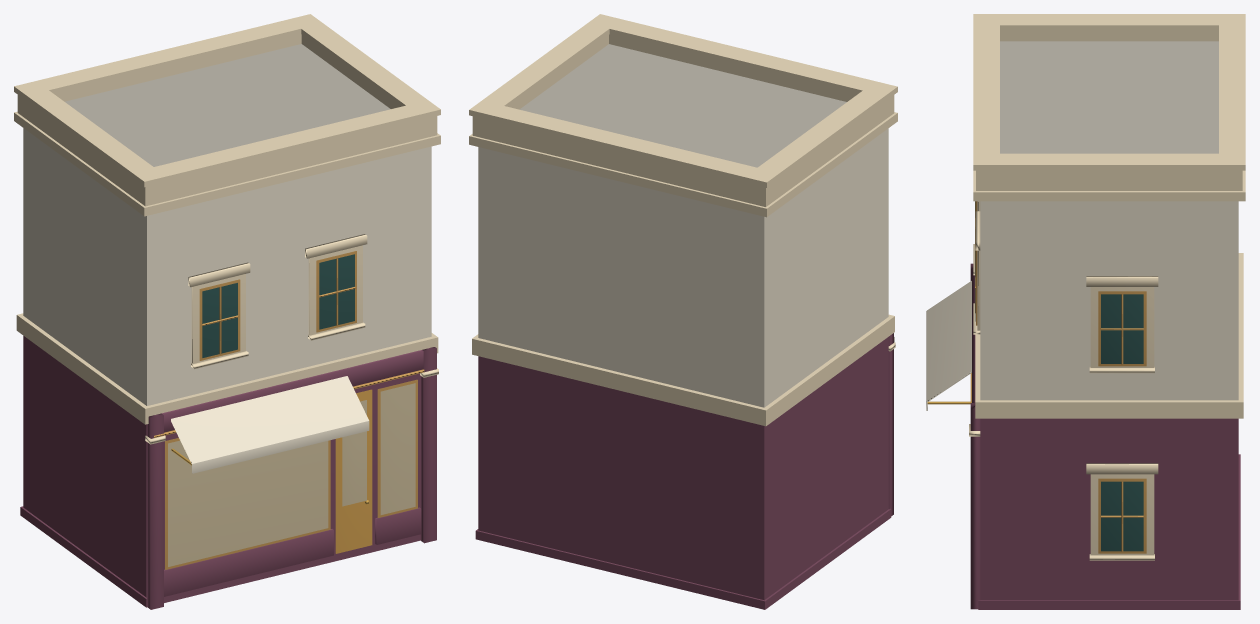
Rendered from building_shop_narrow.glb.
3 renders of one model, left to right at view 1: azimuth 30°, elevation 25°; view 2: azimuth 150°, elevation 25°; view 3: azimuth 270°, elevation 25°, orthographic. The views are drawn at different scales.
Visible parts, largest first — view 1: WallUpper, WallGround, Roof, ParapetCap, ShopWinGlass0, Parapet, Awn, Band0, ShopStall0, Cornice, ShopWinGlass1, ShopPilaster0.10 (+18 smaller); view 2: WallUpper, WallGround, Roof, ParapetCap, Parapet, Band0, Cornice, Plinth, ShopPilaster0.10; view 3: WallUpper, WallGround, Roof, ParapetCap, Parapet, Band0, Awn, Cornice, Plinth, SG0Glass, SW0Glass, ShopPilaster4.80 (+6 smaller).
Part boxes in pixels (x1=…): WallUpper: x1=23, y1=128, x2=431, y2=405; WallGround: x1=23, y1=336, x2=146, y2=596; Roof: x1=65, y1=44, x2=390, y2=166; ParapetCap: x1=14, y1=14, x2=440, y2=187; ShopWinGlass0: x1=168, y1=440, x2=328, y2=566; Parapet: x1=17, y1=34, x2=437, y2=206; Awn: x1=171, y1=376, x2=369, y2=463; Band0: x1=16, y1=313, x2=438, y2=424; ShopStall0: x1=164, y1=529, x2=333, y2=596; Cornice: x1=14, y1=111, x2=440, y2=216; ShopWinGlass1: x1=380, y1=383, x2=415, y2=514; ShopPilaster0.10: x1=146, y1=413, x2=163, y2=609; WallUpper: x1=478, y1=128, x2=888, y2=407; WallGround: x1=478, y1=337, x2=888, y2=600; Roof: x1=520, y1=44, x2=846, y2=167; ParapetCap: x1=469, y1=14, x2=897, y2=187; Parapet: x1=472, y1=34, x2=894, y2=206; Band0: x1=472, y1=314, x2=894, y2=426; Cornice: x1=469, y1=112, x2=897, y2=217; Plinth: x1=475, y1=508, x2=891, y2=609; ShopPilaster0.10: x1=888, y1=333, x2=893, y2=515; WallUpper: x1=980, y1=201, x2=1238, y2=400; WallGround: x1=980, y1=418, x2=1238, y2=600; Roof: x1=1000, y1=41, x2=1218, y2=153; ParapetCap: x1=973, y1=14, x2=1245, y2=170; Parapet: x1=976, y1=31, x2=1242, y2=190; Band0: x1=975, y1=253, x2=1243, y2=418; Awn: x1=926, y1=281, x2=971, y2=401; Cornice: x1=973, y1=170, x2=1245, y2=201; Plinth: x1=978, y1=454, x2=1240, y2=609; SG0Glass: x1=1101, y1=481, x2=1143, y2=551; SW0Glass: x1=1101, y1=294, x2=1143, y2=363; ShopPilaster4.80: x1=970, y1=403, x2=980, y2=609.
Size of the model in its own units: 5.1 by 7.04 by 4.56.
